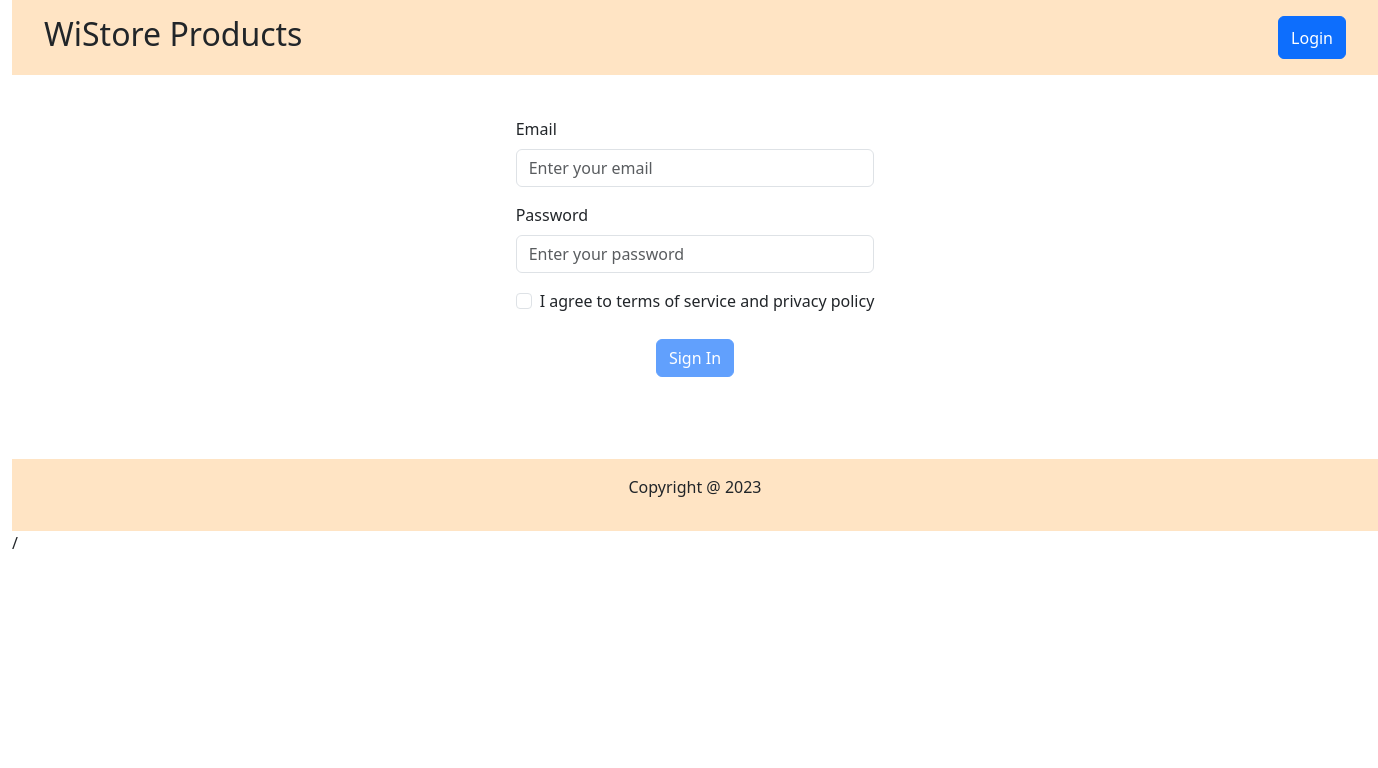
it: Input Hataları › Hatalı email ve şifre girince 2 hata mesajı çıkıyor, kontrol edip butonu disabled yapıyor
This screenshot has width=1378, height=768.
In the field with test id "email": point(696, 168) [516,149,875,187], type "sdfsdfgf"
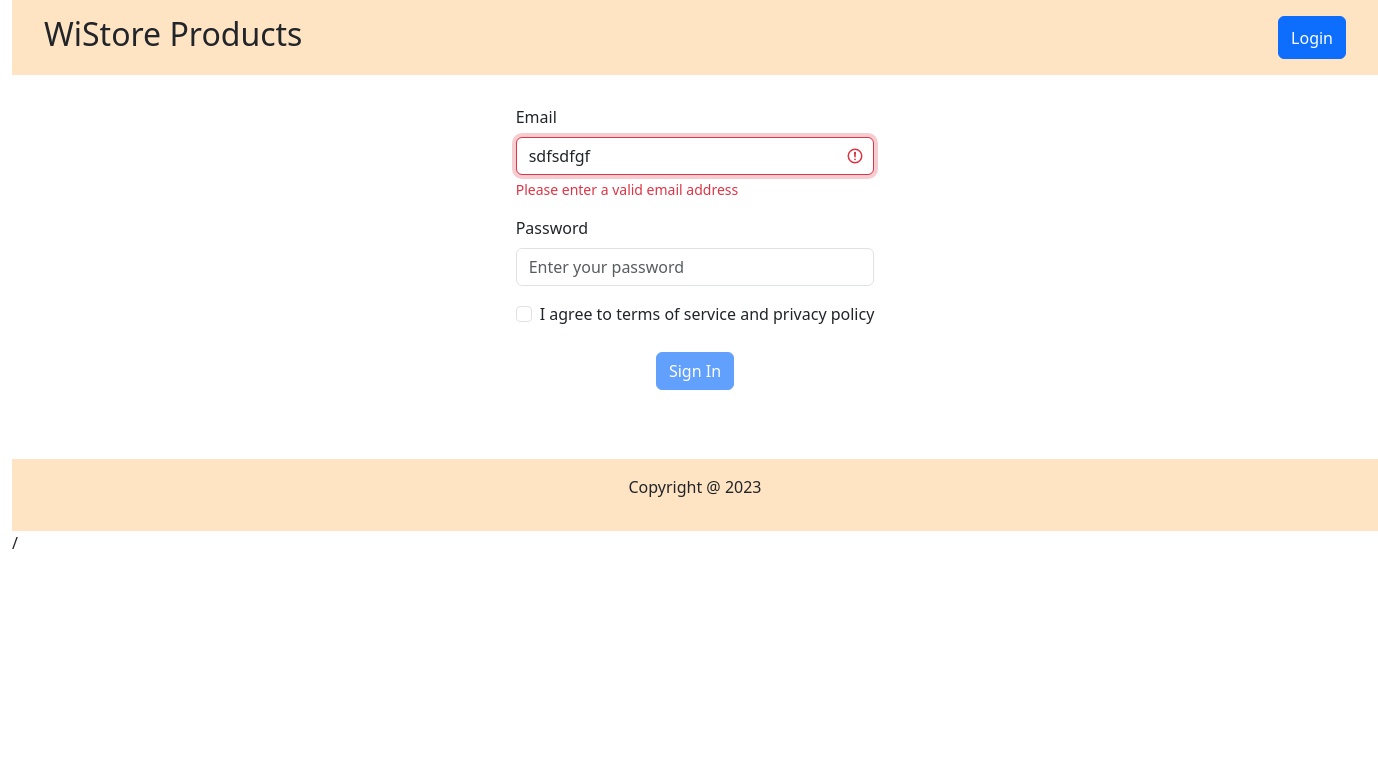
In the password field with test id "password": point(696, 267) [516,248,875,286], type "12"
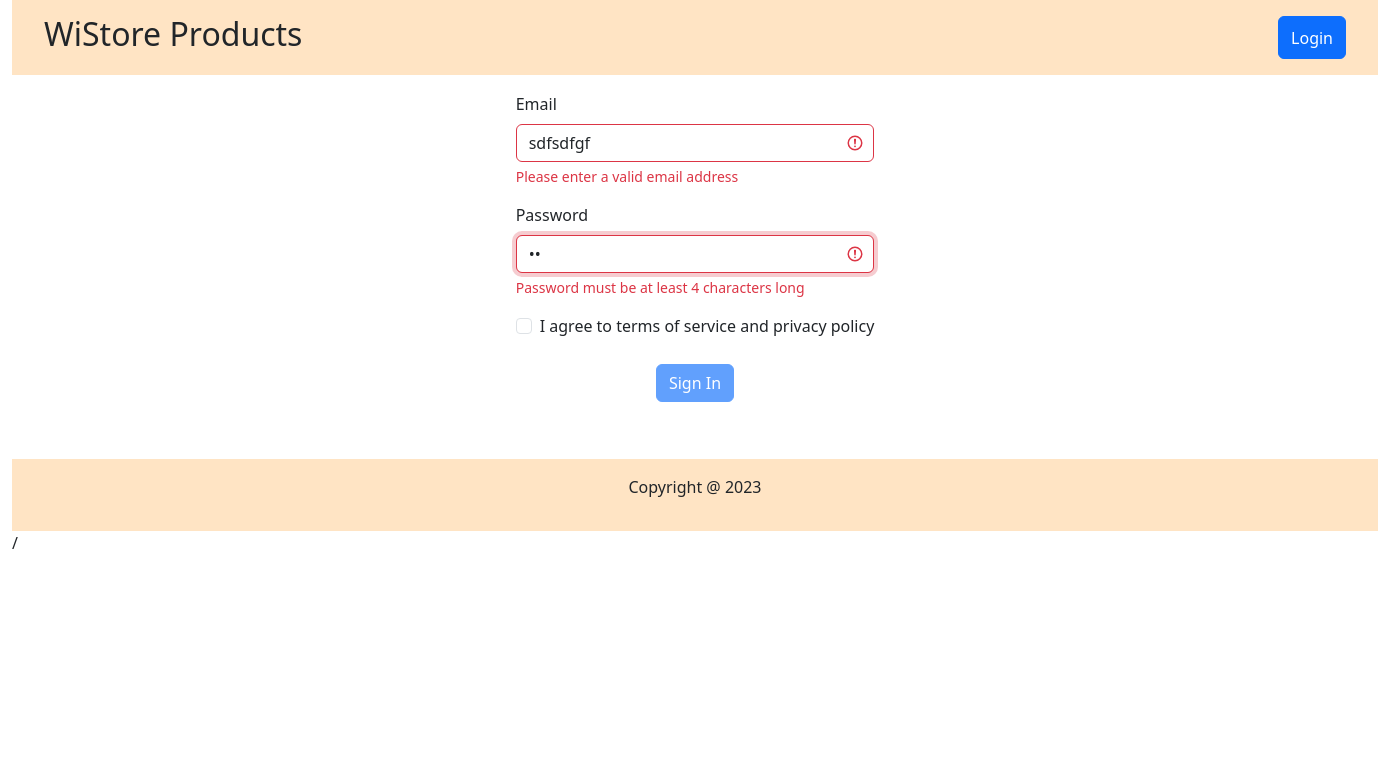
Result: the number of elements with test id "email-error" is 1 at [516,167,739,186]
Result: the text "Please enter a valid email address" is shown at [516,167,738,186]
Result: the number of elements with test id "password-error" is 1 at [516,278,805,297]
